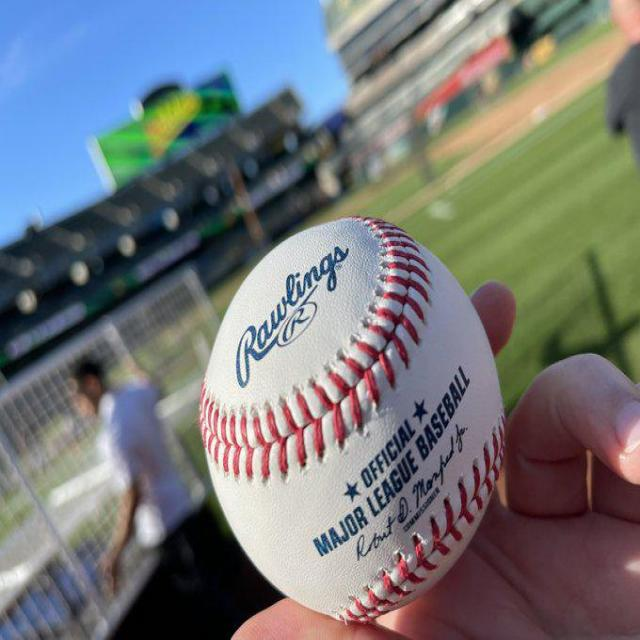baseball: (198, 214, 502, 618)
